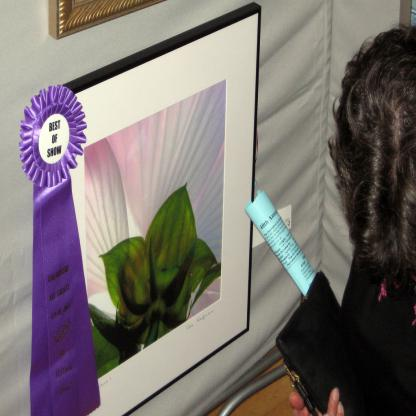Picture-frame: (37, 3, 260, 416)
